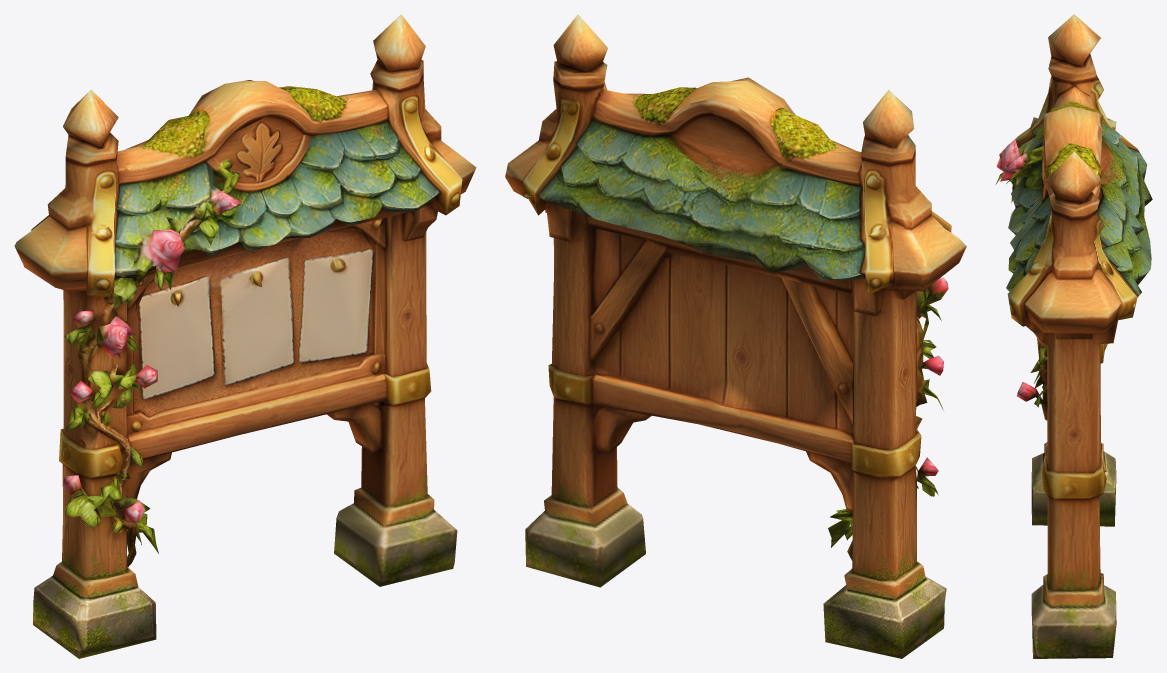
File: wooden-signpost.glb
3 views of the same model, side by side, from view 1: azimuth 30°, elevation 25°; view 2: azimuth 150°, elevation 25°; view 3: azimuth 270°, elevation 25° (orthographic). The views are drawn at different scales.
Visible parts, largest first — view 1: tripo_node_be9c477b-3f16-4283-bc86-5a8fa89f2774; view 2: tripo_node_be9c477b-3f16-4283-bc86-5a8fa89f2774; view 3: tripo_node_be9c477b-3f16-4283-bc86-5a8fa89f2774.
Boxes of the visible parts, bbox=[...] form: tripo_node_be9c477b-3f16-4283-bc86-5a8fa89f2774: bbox=[14, 14, 476, 658]; tripo_node_be9c477b-3f16-4283-bc86-5a8fa89f2774: bbox=[505, 14, 966, 658]; tripo_node_be9c477b-3f16-4283-bc86-5a8fa89f2774: bbox=[995, 14, 1152, 658].
Size of the model in its own units: 0.8034 by 0.9833 by 0.2835.
1 material, 1 textured.
